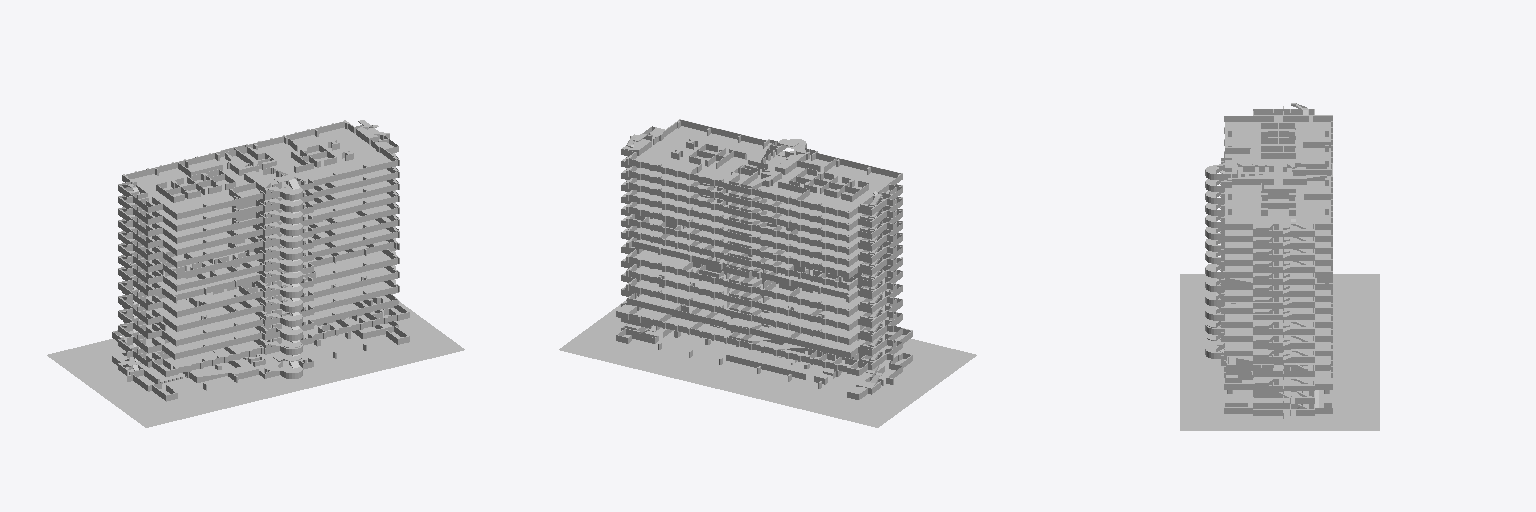
Rendered from 99 completo.obj.
The picture shows the model from 3 angles: view 1: azimuth 30°, elevation 25°; view 2: azimuth 150°, elevation 25°; view 3: azimuth 270°, elevation 25°; orthographic projection.
Parts seen in each view (by area): view 1: Mesh605 Group121 Group120 Group119 Group118 Group117 Group116 Gr, Mesh618 Model, Mesh312 Group49 Model, Mesh3 Group2 Model, Mesh135 Group29 Group28 Group27 Model, Mesh75 Group16 Group14 Model, Mesh91 Group22 Group21 Group20 Model, Mesh6 Group6 Group5 Model, Mesh481 Group89 Group88 Group87 Group85 Model, Mesh524 Group99 Group98 Group97 Group96 Group94 Model, Mesh567 Group109 Group108 Group107 Group106 Group104 Model, Mesh216 Group45 Group44 Group43 Group42 Model (+5 smaller); view 2: Mesh618 Model, Mesh605 Group121 Group120 Group119 Group118 Group117 Group116 Gr, Mesh312 Group49 Model, Mesh3 Group2 Model, Mesh75 Group16 Group14 Model, Mesh135 Group29 Group28 Group27 Model, Mesh91 Group22 Group21 Group20 Model, Mesh6 Group6 Group5 Model, Mesh401 Group81 Group80 Group79 Group78 Group77 Model, Mesh481 Group89 Group88 Group87 Group85 Model, Mesh567 Group109 Group108 Group107 Group106 Group104 Model, Mesh524 Group99 Group98 Group97 Group96 Group94 Model (+5 smaller); view 3: Mesh618 Model, Mesh605 Group121 Group120 Group119 Group118 Group117 Group116 Gr, Mesh312 Group49 Model, Mesh3 Group2 Model, Mesh135 Group29 Group28 Group27 Model, Mesh91 Group22 Group21 Group20 Model, Mesh75 Group16 Group14 Model, Mesh401 Group81 Group80 Group79 Group78 Group77 Model, Mesh524 Group99 Group98 Group97 Group96 Group94 Model, Mesh216 Group45 Group44 Group43 Group42 Model, Mesh481 Group89 Group88 Group87 Group85 Model, Mesh567 Group109 Group108 Group107 Group106 Group104 Model (+5 smaller).
Boxes of the visible parts, <box> form: Mesh605 Group121 Group120 Group119 Group118 Group117 Group116 Gr: <box>118,120,399,219</box>; Mesh618 Model: <box>47,301,464,427</box>; Mesh312 Group49 Model: <box>112,321,409,401</box>; Mesh3 Group2 Model: <box>112,300,409,376</box>; Mesh135 Group29 Group28 Group27 Model: <box>118,248,399,317</box>; Mesh75 Group16 Group14 Model: <box>118,278,399,346</box>; Mesh91 Group22 Group21 Group20 Model: <box>118,264,399,331</box>; Mesh6 Group6 Group5 Model: <box>118,292,398,359</box>; Mesh481 Group89 Group88 Group87 Group85 Model: <box>118,180,399,255</box>; Mesh524 Group99 Group98 Group97 Group96 Group94 Model: <box>118,168,399,243</box>; Mesh567 Group109 Group108 Group107 Group106 Group104 Model: <box>118,156,399,231</box>; Mesh216 Group45 Group44 Group43 Group42 Model: <box>118,216,399,291</box>; Mesh618 Model: <box>559,304,976,427</box>; Mesh605 Group121 Group120 Group119 Group118 Group117 Group116 Gr: <box>621,119,902,218</box>; Mesh312 Group49 Model: <box>616,325,912,399</box>; Mesh3 Group2 Model: <box>616,301,912,375</box>; Mesh75 Group16 Group14 Model: <box>621,272,902,344</box>; Mesh135 Group29 Group28 Group27 Model: <box>621,244,902,316</box>; Mesh91 Group22 Group21 Group20 Model: <box>621,258,902,330</box>; Mesh6 Group6 Group5 Model: <box>621,286,902,358</box>; Mesh401 Group81 Group80 Group79 Group78 Group77 Model: <box>621,192,902,266</box>; Mesh481 Group89 Group88 Group87 Group85 Model: <box>621,182,902,254</box>; Mesh567 Group109 Group108 Group107 Group106 Group104 Model: <box>621,151,902,230</box>; Mesh524 Group99 Group98 Group97 Group96 Group94 Model: <box>621,170,902,242</box>; Mesh618 Model: <box>1180,274,1379,430</box>; Mesh605 Group121 Group120 Group119 Group118 Group117 Group116 Gr: <box>1205,106,1332,239</box>; Mesh312 Group49 Model: <box>1205,341,1332,418</box>; Mesh3 Group2 Model: <box>1205,322,1332,393</box>; Mesh135 Group29 Group28 Group27 Model: <box>1205,263,1332,337</box>; Mesh91 Group22 Group21 Group20 Model: <box>1205,271,1332,351</box>; Mesh75 Group16 Group14 Model: <box>1205,292,1332,365</box>; Mesh401 Group81 Group80 Group79 Group78 Group77 Model: <box>1205,215,1332,287</box>; Mesh524 Group99 Group98 Group97 Group96 Group94 Model: <box>1205,139,1332,263</box>; Mesh216 Group45 Group44 Group43 Group42 Model: <box>1205,239,1332,310</box>; Mesh481 Group89 Group88 Group87 Group85 Model: <box>1205,151,1332,275</box>; Mesh567 Group109 Group108 Group107 Group106 Group104 Model: <box>1205,127,1332,251</box>.
Size of the model in its own units: 78.33 by 45.16 by 42.4.